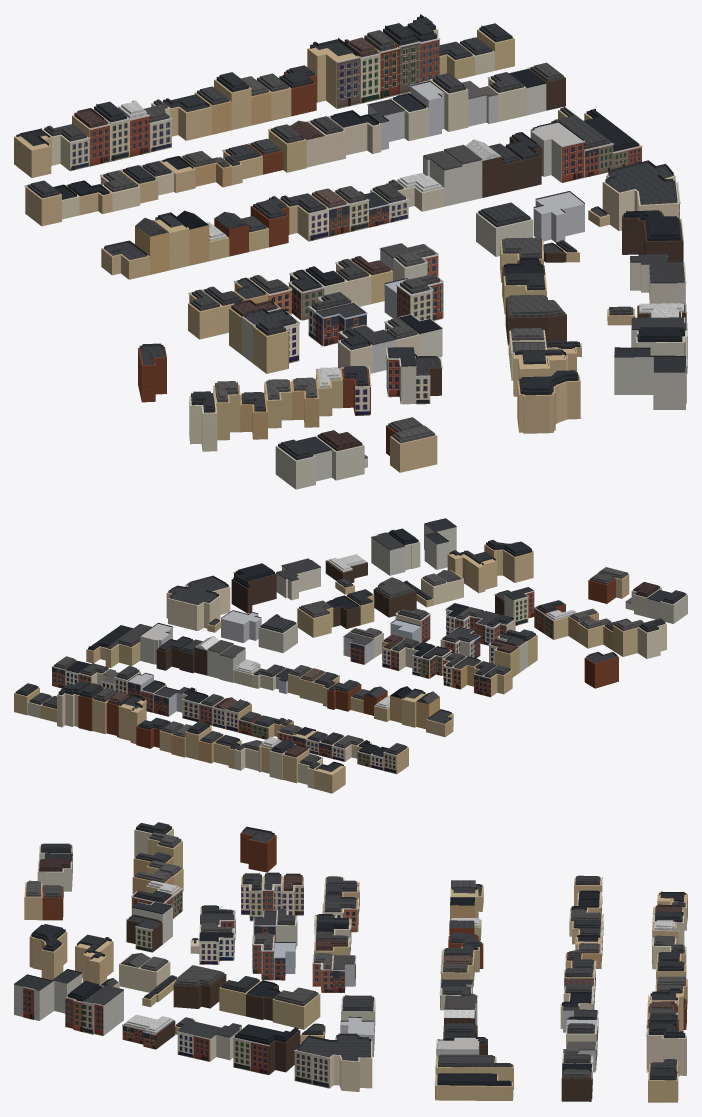
3 renders of one model, top to bottom at view 1: azimuth 30°, elevation 25°; view 2: azimuth 150°, elevation 25°; view 3: azimuth 270°, elevation 25°, orthographic. The views are drawn at different scales.
Parts seen in each view (by area): view 1: bldg_517306113, bldg_517323334, bldg_517320068, bldg_517306119_roof_b, bldg_517306118, bldg_517306119, bldg_517257363, bldg_517323303, bldg_517246234, bldg_517323310, bldg_517306117, bldg_517323332 (+56 smaller); view 2: bldg_517306119, bldg_517323332, bldg_517306118, bldg_517323334, bldg_517320068, bldg_517306113, bldg_517306115, bldg_517306117, bldg_517326153, bldg_517246234, bldg_517306119_roof_b, bldg_517257363 (+31 smaller); view 3: bldg_517306113, bldg_517306119, bldg_517257367, bldg_517323332, bldg_517323334, bldg_517323322, bldg_517323325, bldg_517246238, bldg_517306119_roof_b, bldg_517326153, bldg_517306119_facade0, bldg_517306118_facade0 (+28 smaller).
Part boxes in pixels (x1=…): bldg_517306113: x1=614, y1=349, x2=685, y2=409; bldg_517323334: x1=517, y1=374, x2=580, y2=433; bldg_517320068: x1=533, y1=192, x2=584, y2=242; bldg_517306119_roof_b: x1=608, y1=160, x2=674, y2=200; bldg_517306118: x1=622, y1=213, x2=682, y2=262; bldg_517306119: x1=602, y1=174, x2=679, y2=230; bldg_517257363: x1=530, y1=122, x2=582, y2=182; bldg_517323303: x1=390, y1=434, x2=437, y2=472; bldg_517246234: x1=307, y1=47, x2=358, y2=108; bldg_517323310: x1=253, y1=322, x2=297, y2=373; bldg_517306117: x1=630, y1=255, x2=684, y2=305; bldg_517323332: x1=513, y1=347, x2=576, y2=396; bldg_517306119: x1=166, y1=585, x2=230, y2=630; bldg_517323332: x1=447, y1=554, x2=497, y2=593; bldg_517306118: x1=231, y1=573, x2=276, y2=613; bldg_517323334: x1=484, y1=544, x2=533, y2=582; bldg_517320068: x1=221, y1=611, x2=261, y2=642; bldg_517306113: x1=424, y1=524, x2=456, y2=569; bldg_517306115: x1=371, y1=538, x2=405, y2=575; bldg_517306117: x1=276, y1=566, x2=320, y2=600; bldg_517326153: x1=584, y1=656, x2=618, y2=688; bldg_517246234: x1=118, y1=700, x2=146, y2=743; bldg_517306119_roof_b: x1=170, y1=575, x2=226, y2=602; bldg_517257363: x1=140, y1=623, x2=172, y2=664; bldg_517306113: x1=14, y1=973, x2=82, y2=1020; bldg_517306119: x1=295, y1=1037, x2=372, y2=1091; bldg_517257367: x1=435, y1=1075, x2=513, y2=1100; bldg_517323332: x1=75, y1=940, x2=113, y2=985; bldg_517323334: x1=29, y1=931, x2=67, y2=980; bldg_517323322: x1=272, y1=993, x2=320, y2=1029; bldg_517323325: x1=173, y1=973, x2=226, y2=1008; bldg_517246238: x1=647, y1=1028, x2=686, y2=1076; bldg_517306119_roof_b: x1=299, y1=1033, x2=368, y2=1057; bldg_517326153: x1=240, y1=832, x2=276, y2=872; bldg_517306119_facade0: x1=294, y1=1050, x2=330, y2=1088; bldg_517306118_facade0: x1=232, y1=1037, x2=269, y2=1075.
Size of the model in its own units: 225 by 18.61 by 259.
Materials: 98 (46 with a texture image).
